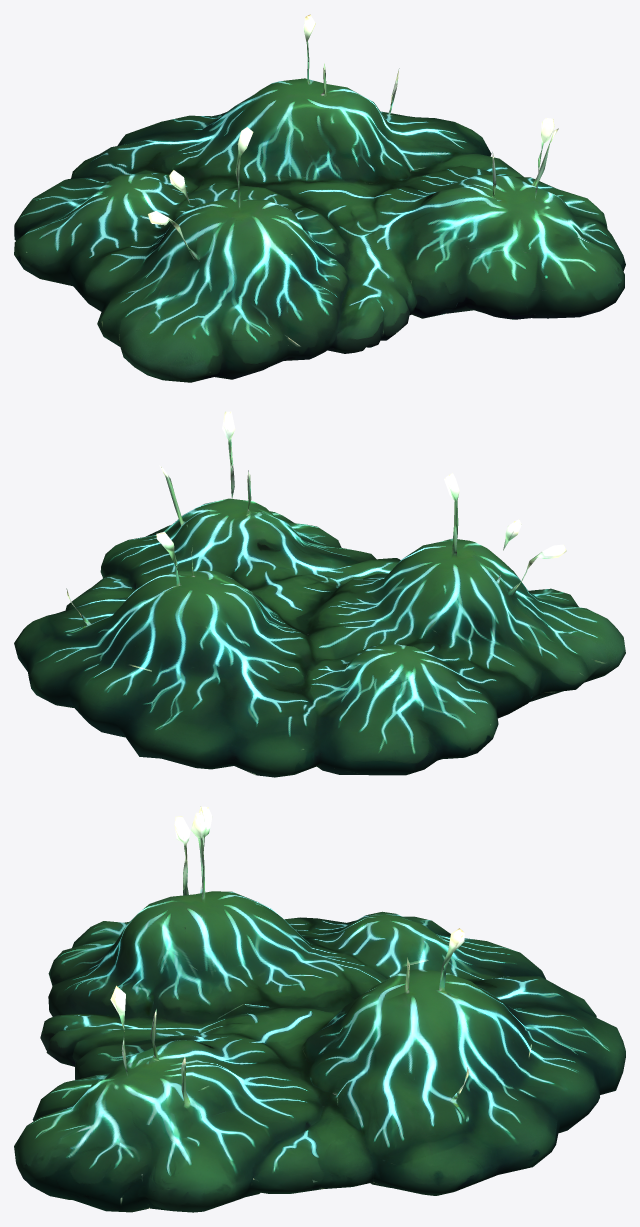
The picture shows the model from 3 angles, top to bottom: view 1: azimuth 30°, elevation 25°; view 2: azimuth 150°, elevation 25°; view 3: azimuth 270°, elevation 25°; orthographic projection. The views are drawn at different scales.
Visible parts, largest first — view 1: Mesh_0; view 2: Mesh_0; view 3: Mesh_0.
Boxes of the visible parts, box(x1,y1,x2,y2) form: Mesh_0: box(14, 14, 625, 382); Mesh_0: box(14, 411, 625, 777); Mesh_0: box(14, 806, 625, 1212).
Bounding box in the file's own units: 1.91 × 0.7972 × 1.83.
Materials: 1 (1 with a texture image).
